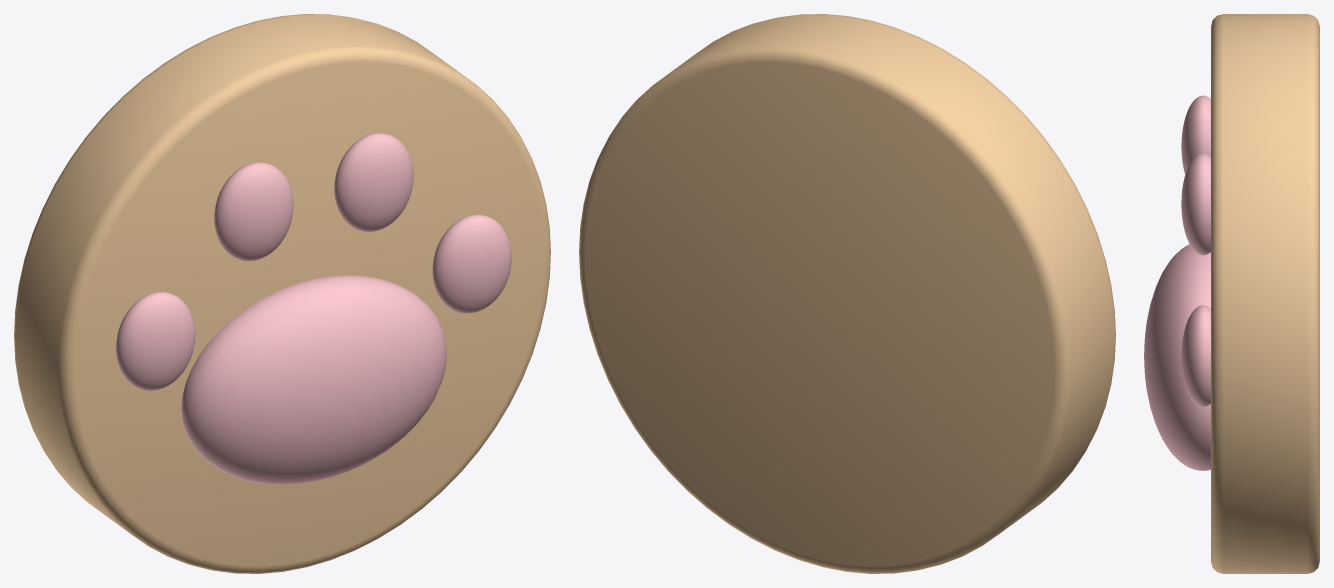
The model's file is cat-pet.glb.
3 renders of one model, left to right at view 1: azimuth 30°, elevation 25°; view 2: azimuth 150°, elevation 25°; view 3: azimuth 270°, elevation 25°, orthographic.
Parts seen in each view (by area): view 1: Cylinder, Sphere, Sphere.002, Sphere.003, Sphere.004, Sphere.001; view 2: Cylinder; view 3: Cylinder, Sphere, Sphere.003, Sphere.004, Sphere.002.
Boxes of the visible parts, <box> form: Cylinder: <box>14,14,550,573</box>; Sphere: <box>181,275,446,484</box>; Sphere.002: <box>214,162,293,261</box>; Sphere.003: <box>334,133,413,231</box>; Sphere.004: <box>432,214,511,313</box>; Sphere.001: <box>116,292,195,390</box>; Cylinder: <box>579,14,1115,573</box>; Cylinder: <box>1211,14,1319,573</box>; Sphere: <box>1144,244,1210,470</box>; Sphere.003: <box>1181,153,1210,255</box>; Sphere.004: <box>1181,305,1210,406</box>; Sphere.002: <box>1181,95,1210,174</box>.
Bounding box in the file's own units: 1.45 × 1.45 × 0.455.
